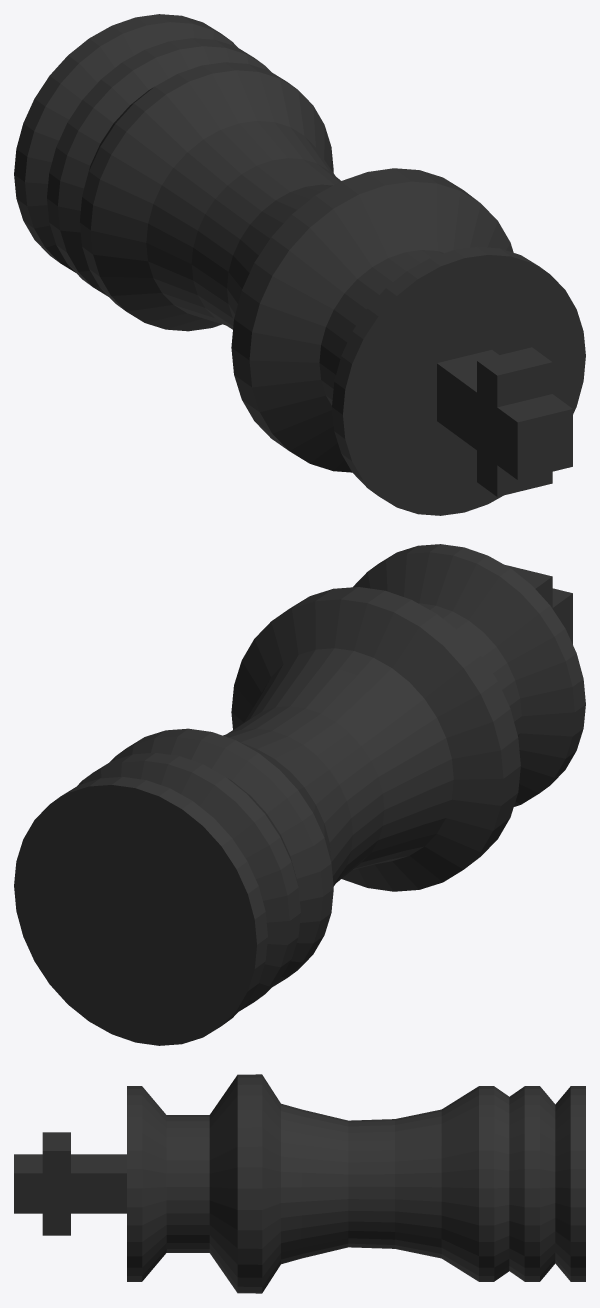
Rendered from PieceKing.obj.
3 views of the same model, one above another, from view 1: azimuth 30°, elevation 25°; view 2: azimuth 150°, elevation 25°; view 3: azimuth 270°, elevation 25° (orthographic). The views are drawn at different scales.
Visible parts, largest first — view 1: Cylinder; view 2: Cylinder; view 3: Cylinder.
Boxes of the visible parts, box(x1,y1,x2,y2) form: Cylinder: box(14, 14, 585, 515); Cylinder: box(14, 544, 585, 1045); Cylinder: box(14, 1074, 585, 1293).
Bounding box in the file's own units: 2.24 × 2.24 × 5.84.
1 material, 1 textured.
